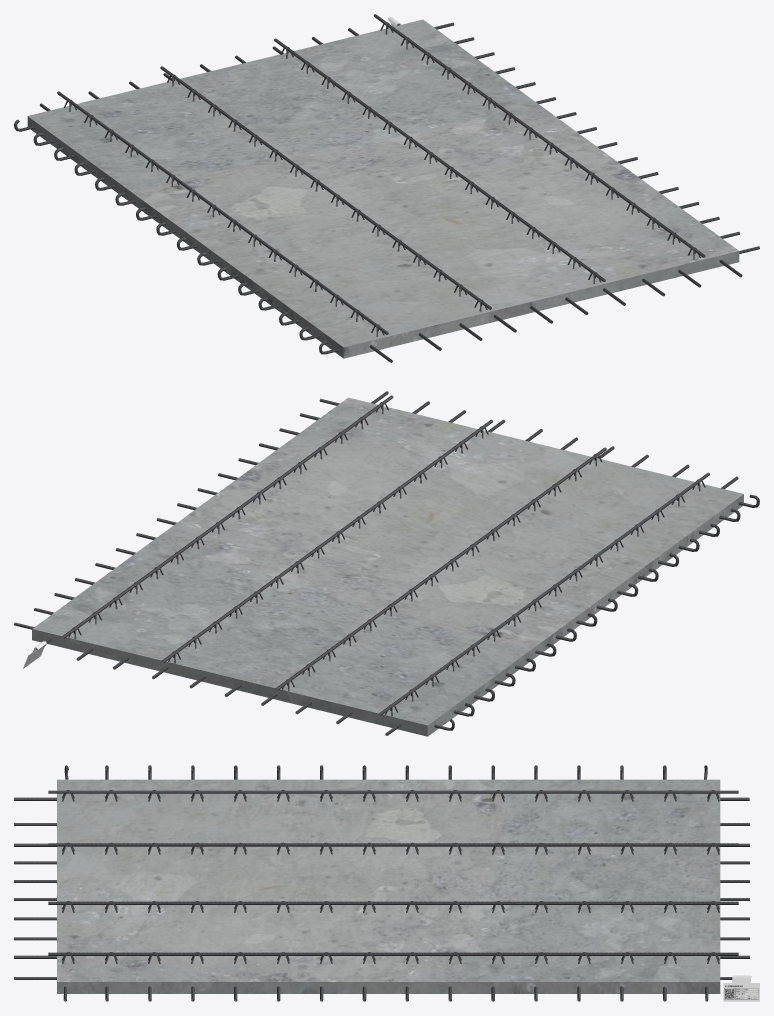
File: 叠合板.fbx
3 renders of one model, top to bottom at view 1: azimuth 30°, elevation 25°; view 2: azimuth 150°, elevation 25°; view 3: azimuth 270°, elevation 25°, orthographic. The views are drawn at different scales.
Parts seen in each view (by area): view 1: CL_dieheban; view 2: CL_dieheban; view 3: CL_dieheban.
Part boxes in pixels (box(x1,y1,x2,y2)): CL_dieheban: box(14, 14, 759, 362); CL_dieheban: box(14, 391, 759, 736); CL_dieheban: box(14, 765, 759, 1001).
Size of the model in its own units: 247 by 17.33 by 345.
